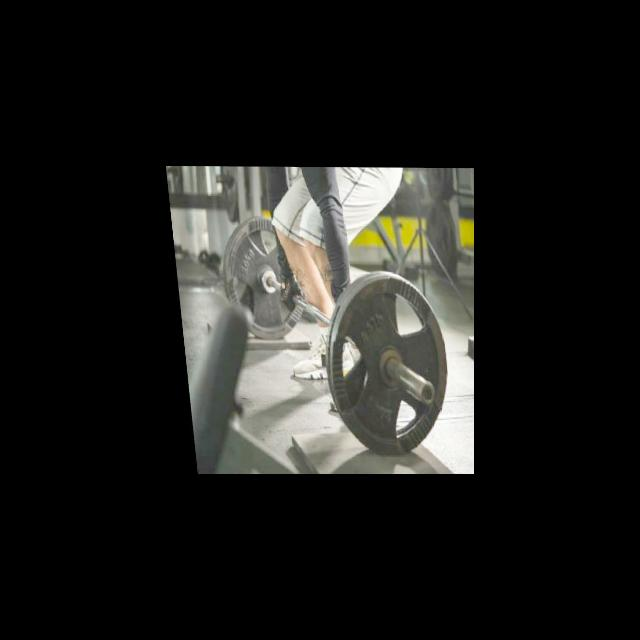barbell: (310, 271, 456, 456)
